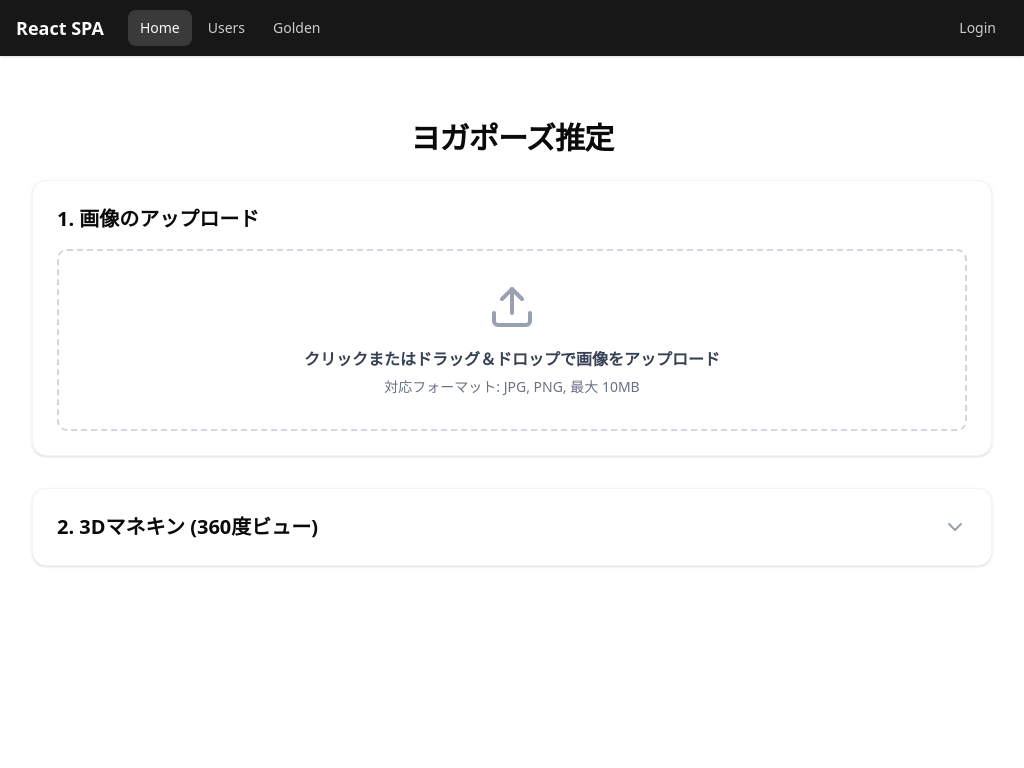
Scenario: App › navigates to users page
Step 1. Click the link "Users" → (226, 28), box x1=208 y1=18 x2=245 y2=37
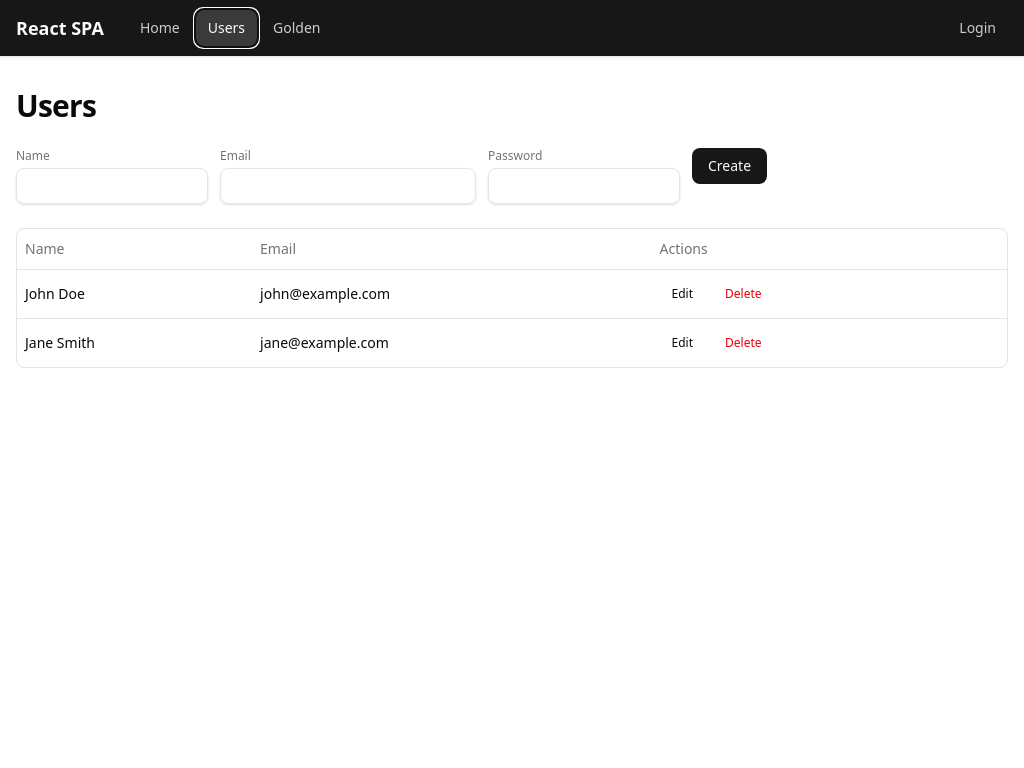
Expected: the heading "Users" is shown, x1=16 y1=85 x2=96 y2=126
